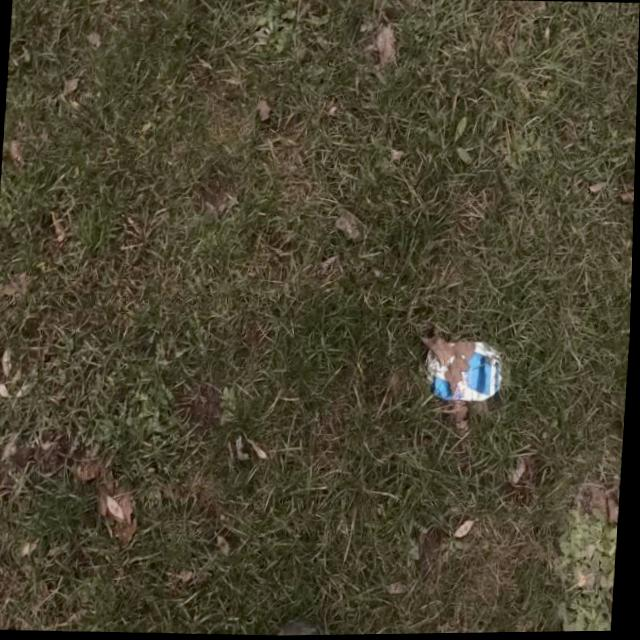Can-Metal: (422, 336, 506, 406)
